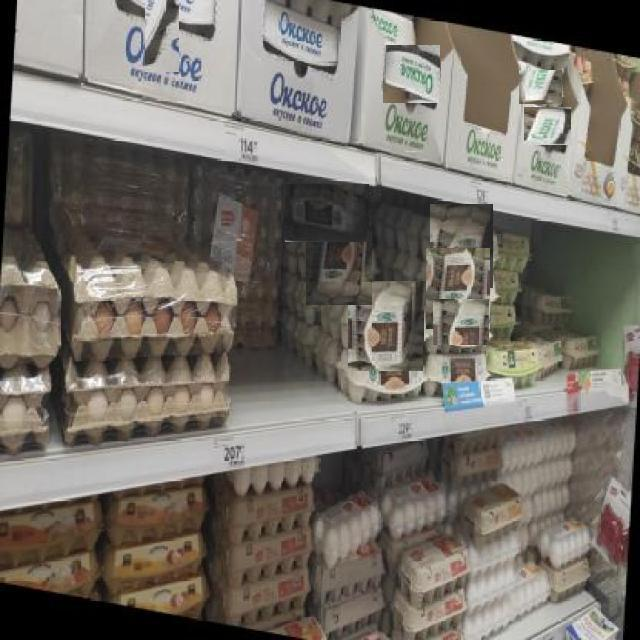Egg: (348, 282, 424, 371), (338, 341, 428, 414), (260, 0, 342, 71), (306, 221, 372, 305), (429, 204, 493, 288), (427, 248, 490, 329), (285, 183, 369, 242), (423, 345, 492, 404), (432, 299, 489, 370), (382, 45, 440, 103), (504, 33, 571, 70), (146, 0, 179, 72), (518, 54, 562, 104), (525, 106, 571, 145)
